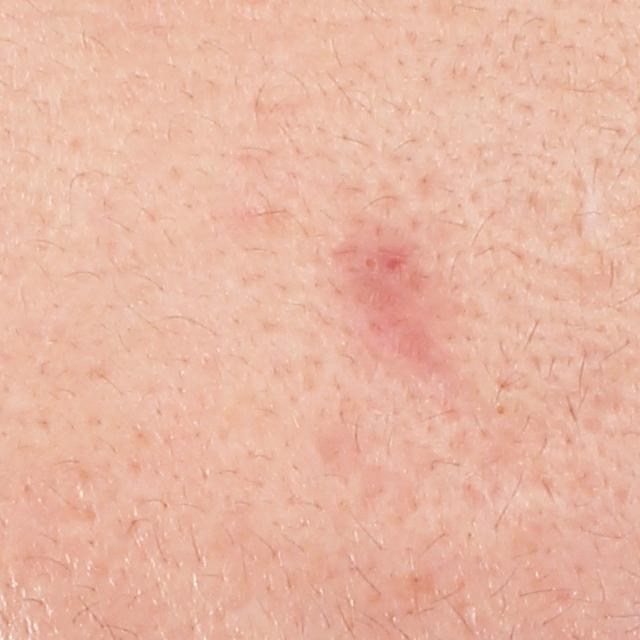comedo: (492, 400, 509, 419)
